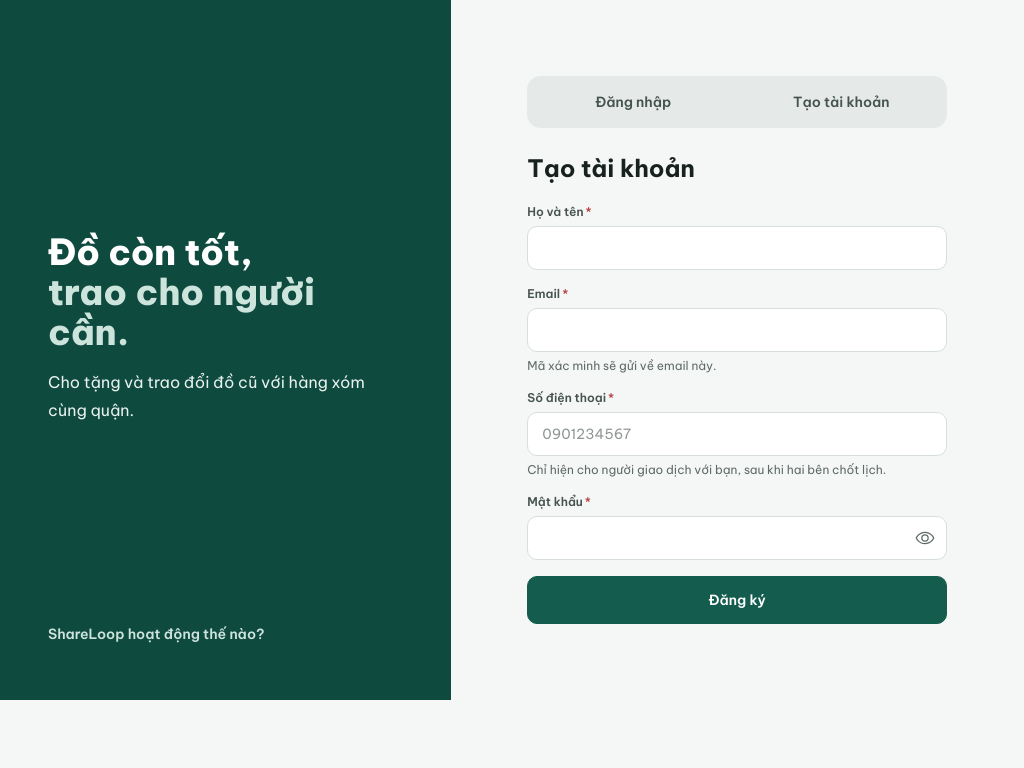
Scenario: Register kiểm tra dữ liệu phía trình duyệt › hiện lỗi ngay khi rời từng ô không hợp lệ
Click the field labelled "Họ và tên" at (737, 248), box [527,226,947,270]
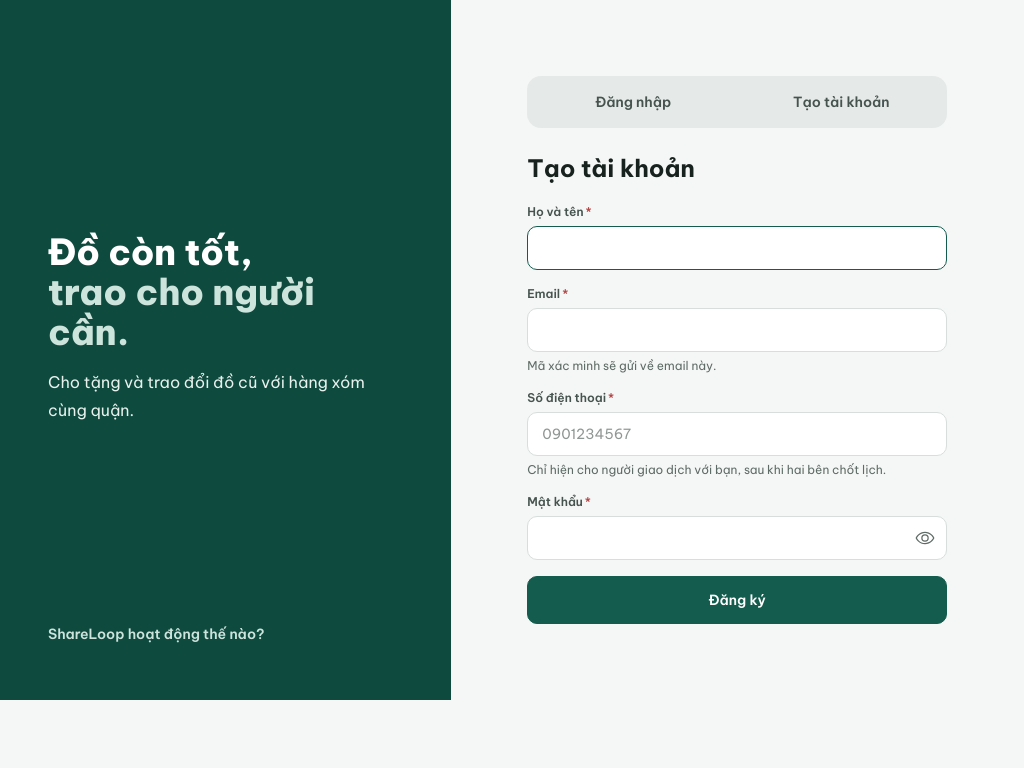
Press Tab
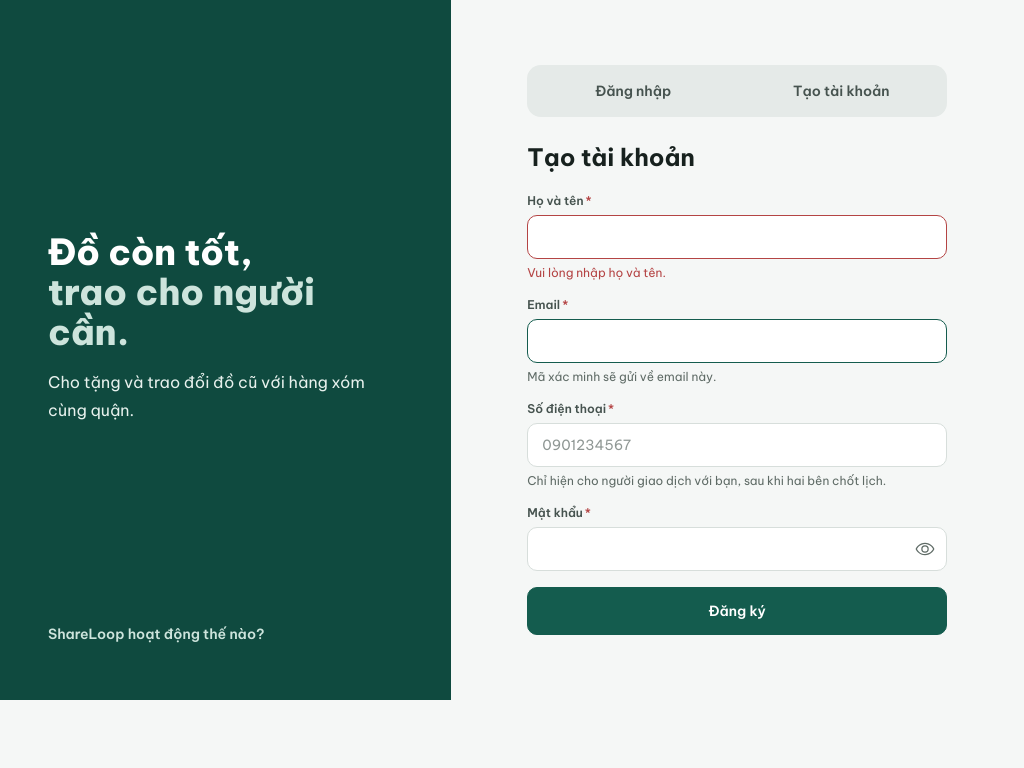
Check: the text "Vui lòng nhập họ và tên." is shown, box [527,265,666,280]
Type "email-sai" into the field labelled "Email Mã xác minh sẽ gửi về email này." at (737, 341), box [527,319,947,363]
Press Tab
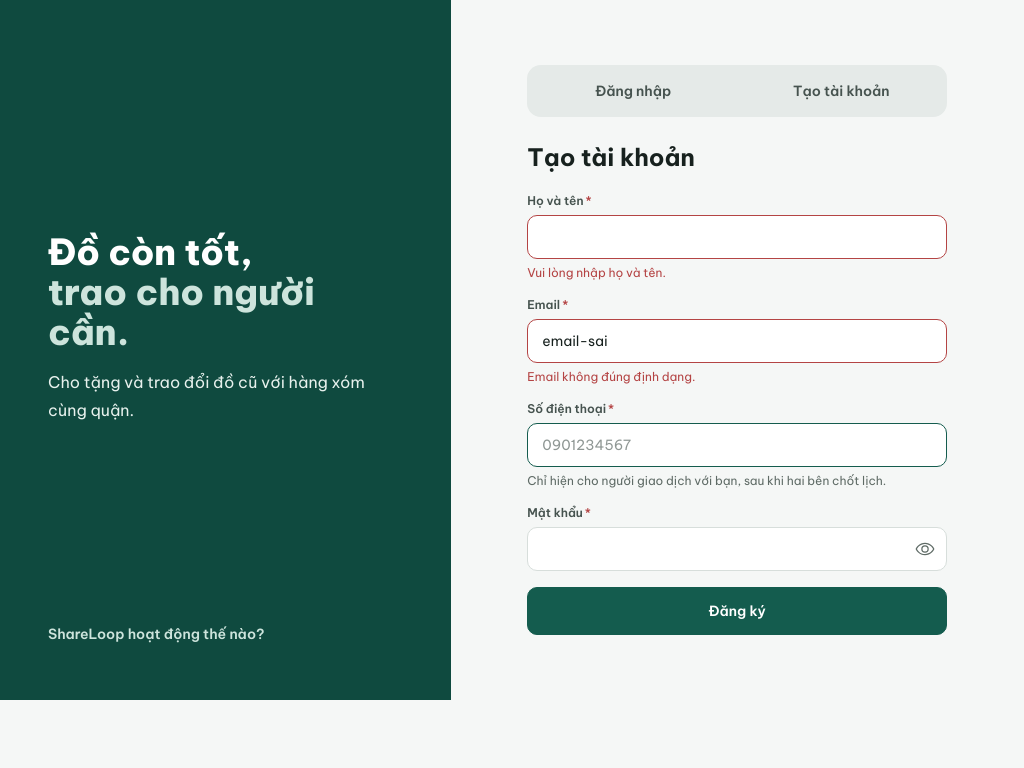
Check: the text "Email không đúng định dạng." is shown, box [527,369,695,384]
Type "12345" into the field labelled "Số điện thoại" at (737, 445), box [527,423,947,467]
Press Tab
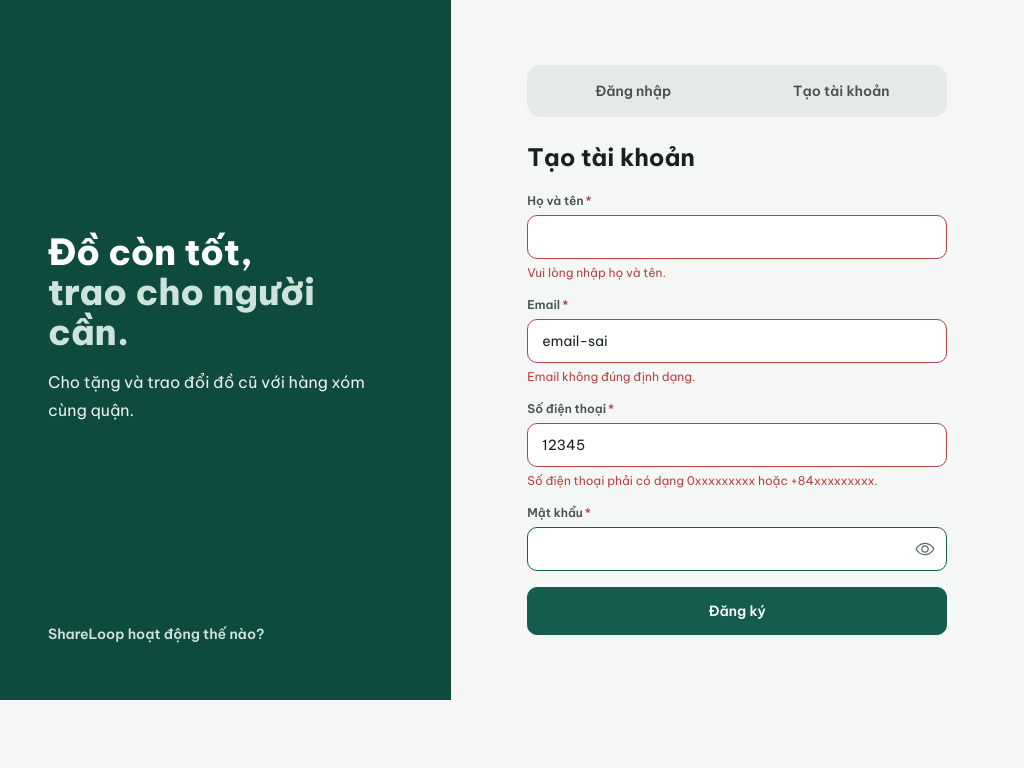
Check: the text "Số điện thoại phải có dạng 0xxxxxxxxx hoặc +84xxxxxxxxx." is shown, box [527,473,878,488]
Type "ngan" into the password field labelled "Mật khẩu" at (737, 549), box [527,527,947,571]
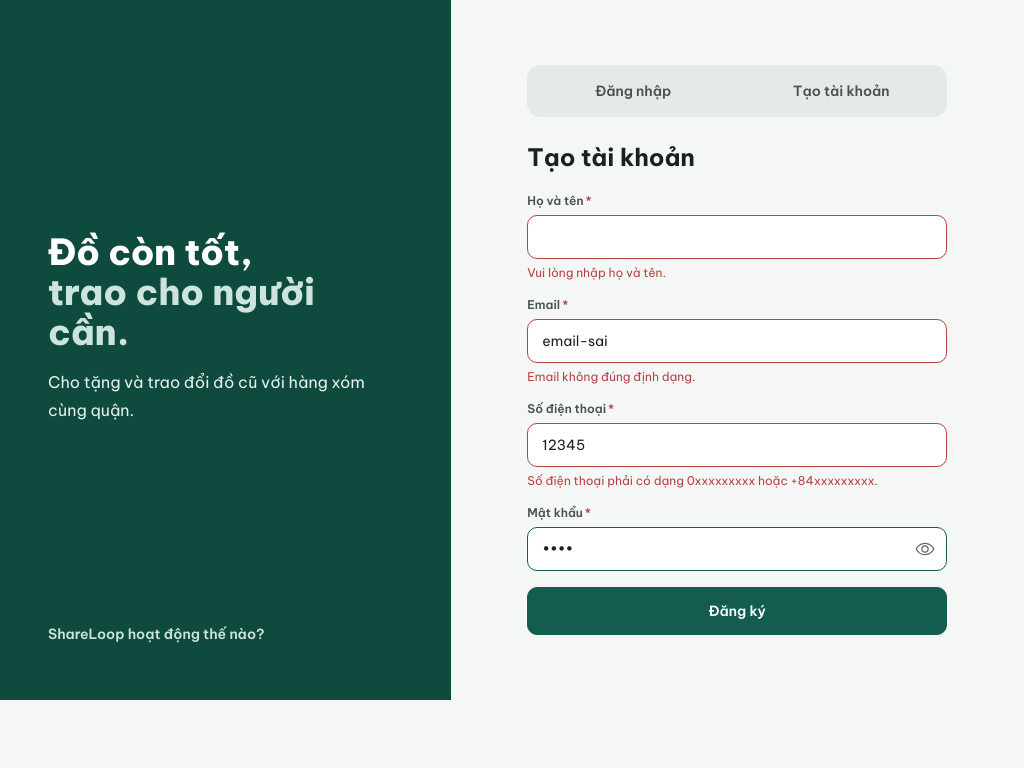
Press Tab
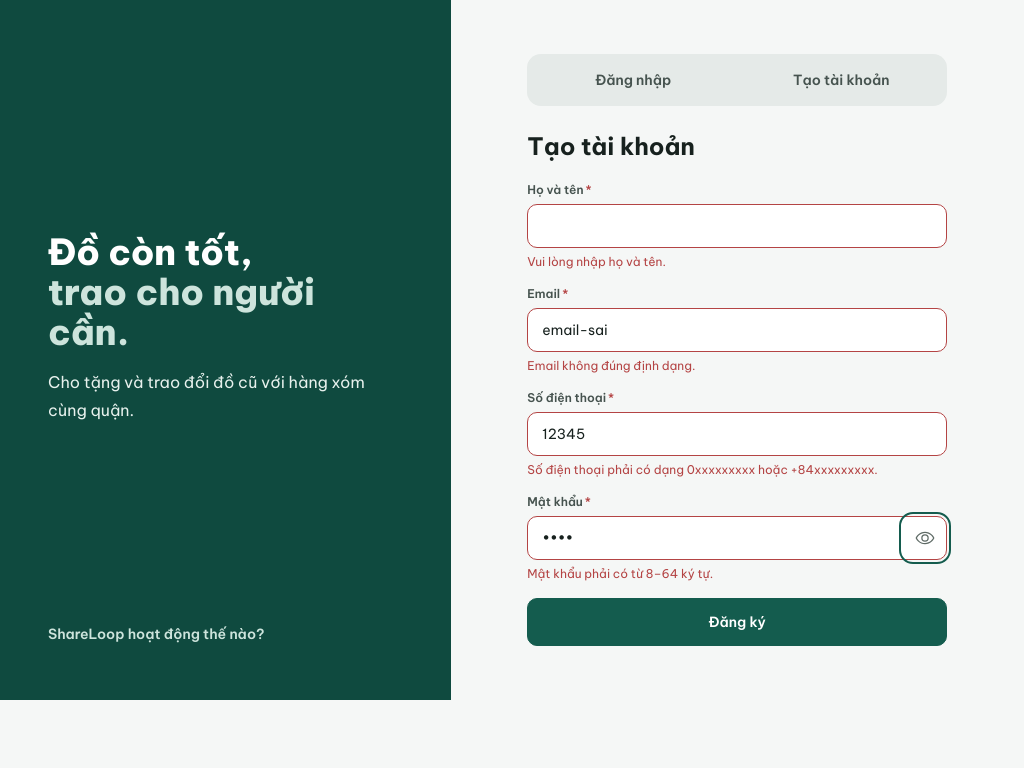
Check: the text "Mật khẩu phải có từ 8–64 ký tự." is shown, box [527,566,713,581]
